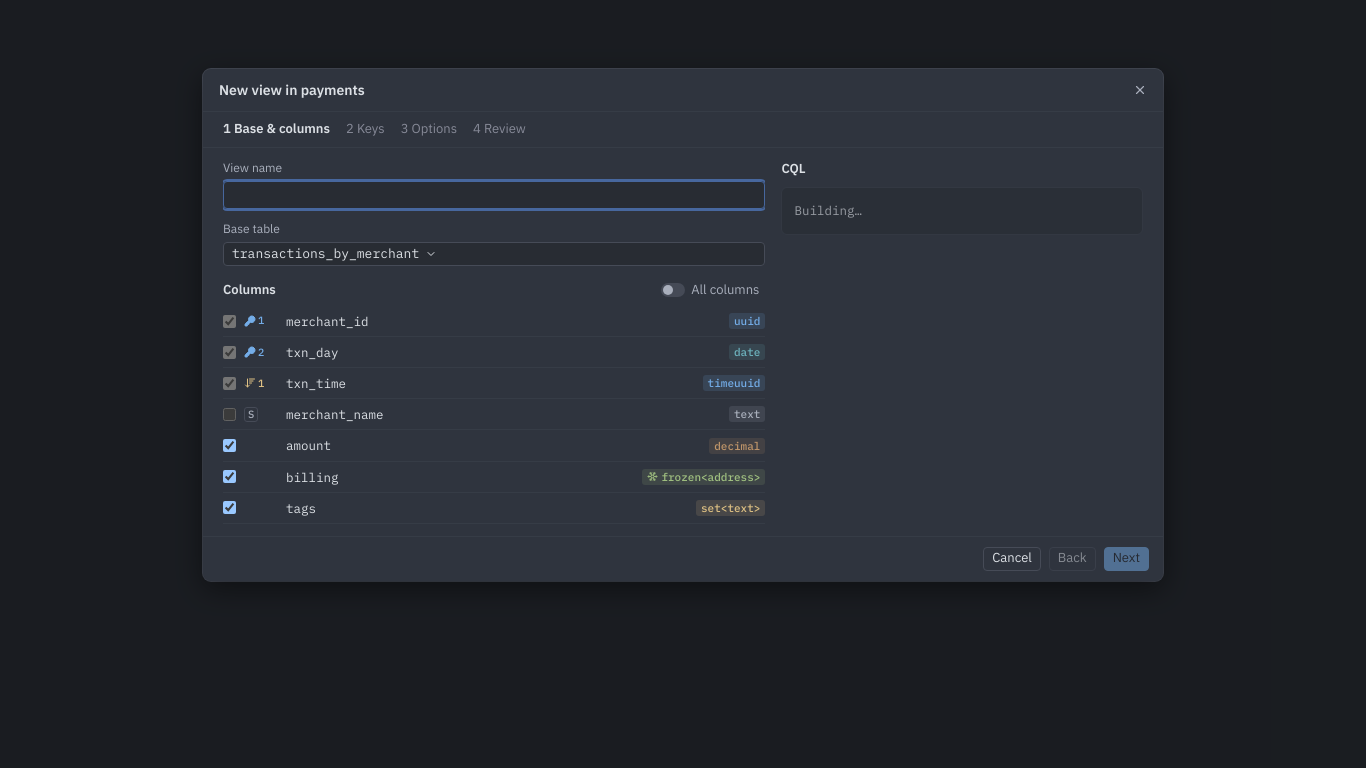
Test case: NewViewWizard › closes without asking when untouched and asks to discard after edits
This screenshot has width=1366, height=768.
Click the button "Cancel" at (1012, 559), box [983,547,1041,571]
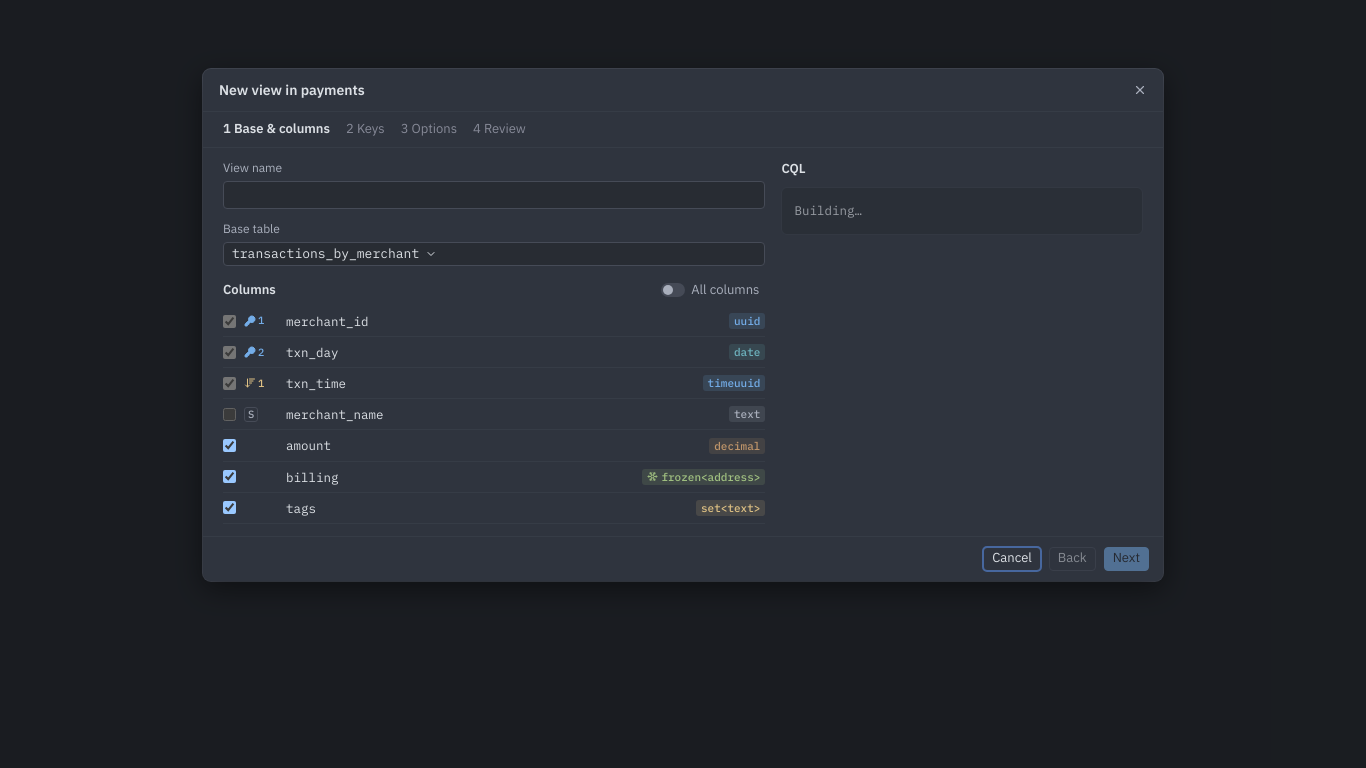
Type "v" into the field labelled "View name" at (494, 195), box [223,181,765,209]
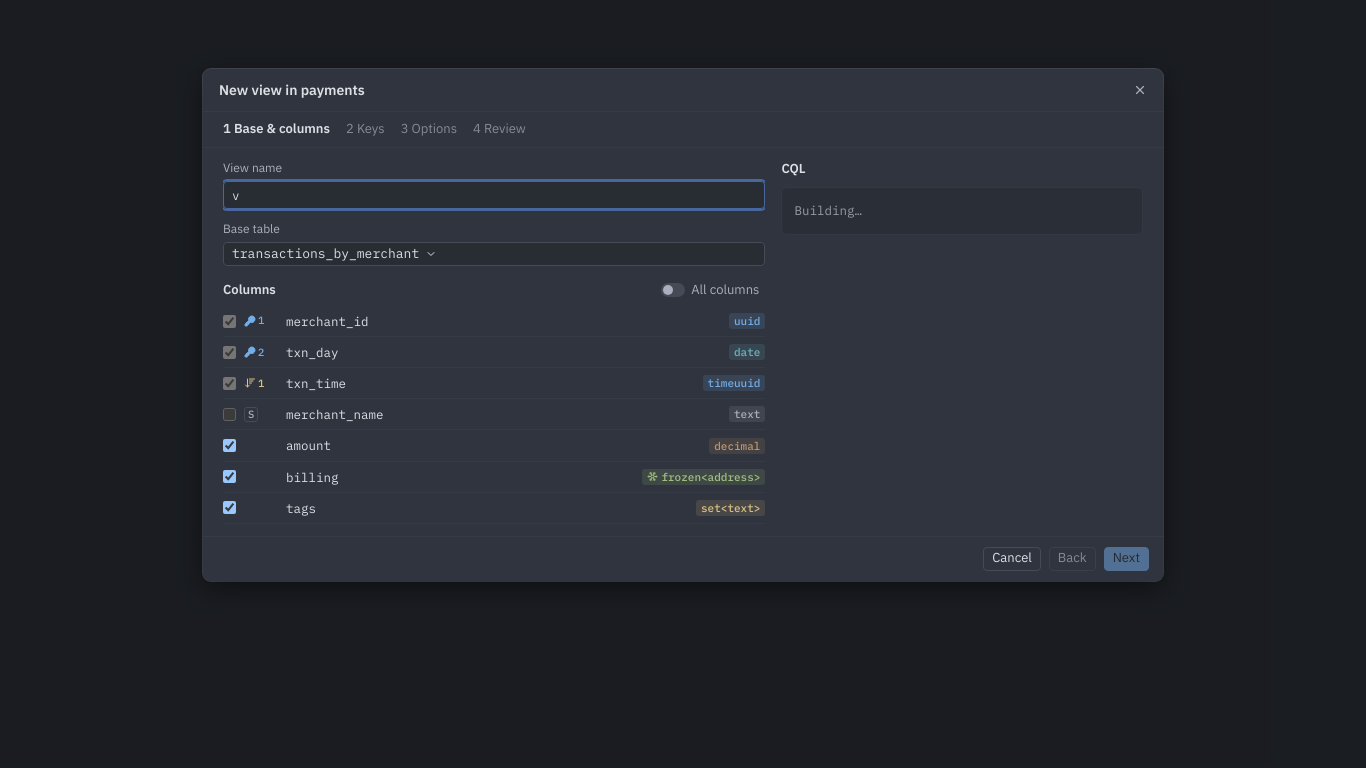
Click the button "Cancel" at (1012, 559), box [983,547,1041,571]
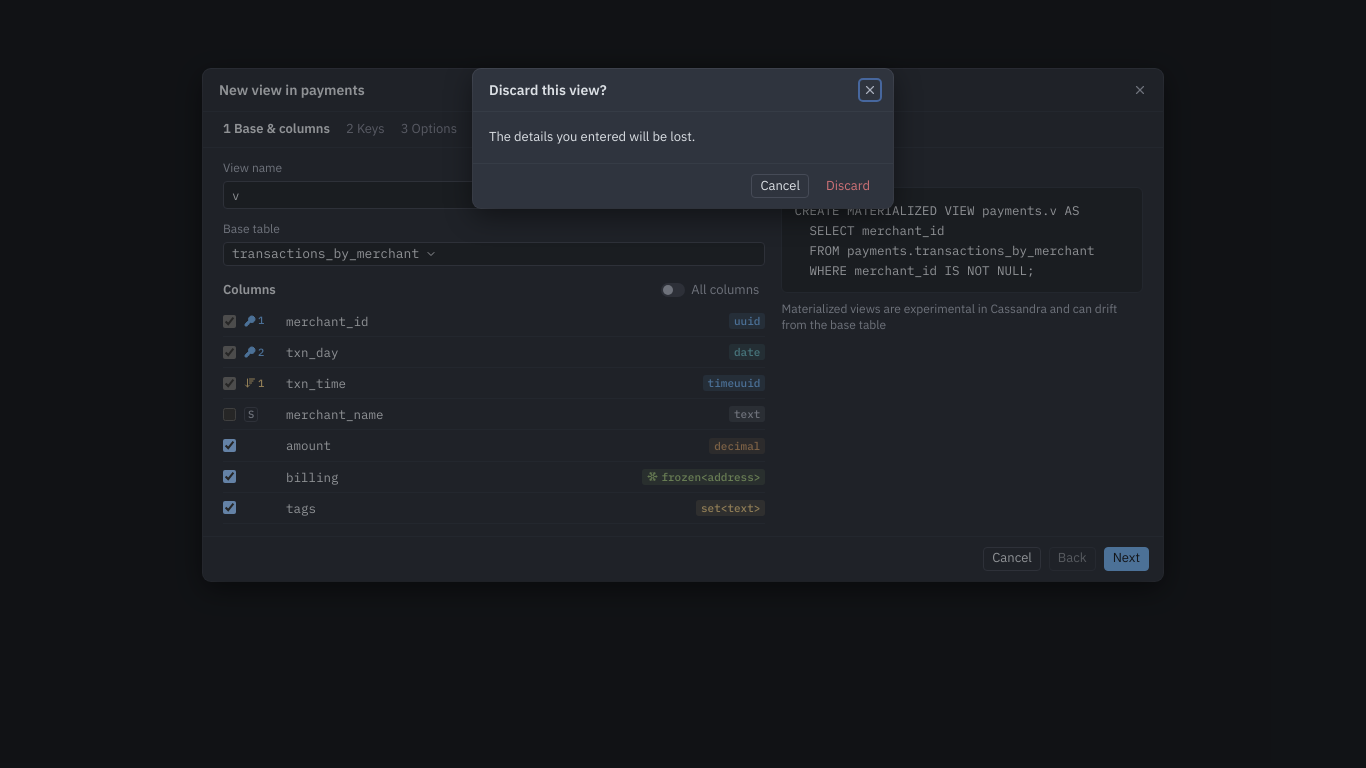
Result: the heading "Discard this view?" is shown at [489,80,606,100]
